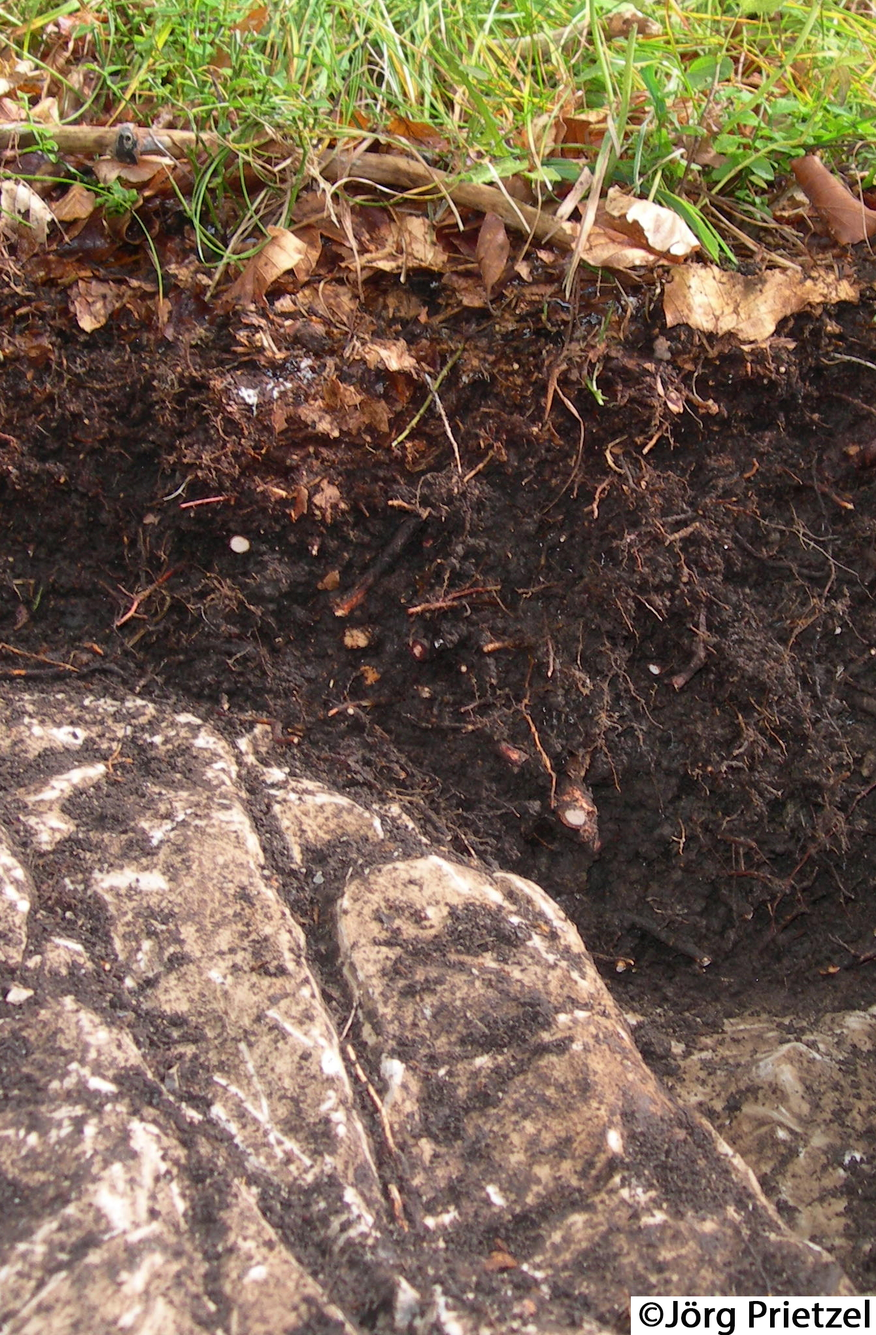Chaise: (205, 314, 487, 479)
